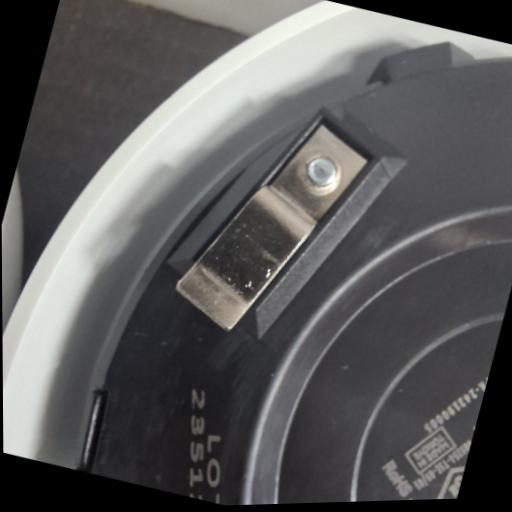yaysiz: (163, 92, 378, 360)
